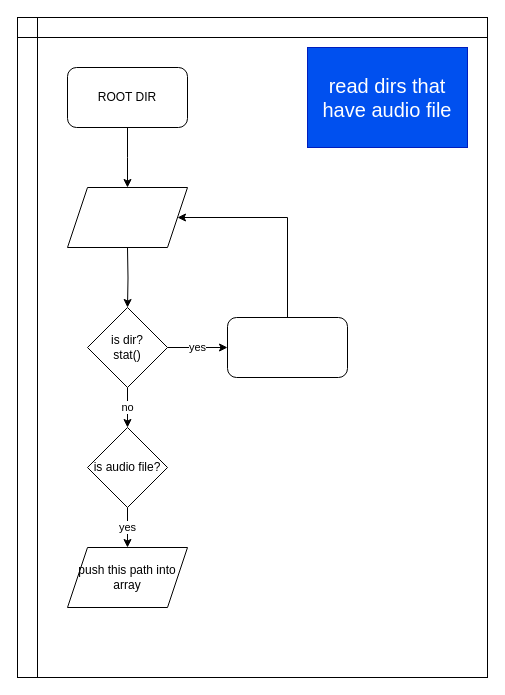
Some shapes in this 505 by 695 pixel diagram are drawn without their labels. Here are the shapes that lost their labels. From the top down, the box of each, then its label:
(66, 186, 188, 248): read sub items readdir()
(226, 316, 348, 378): CURRENT DIR
